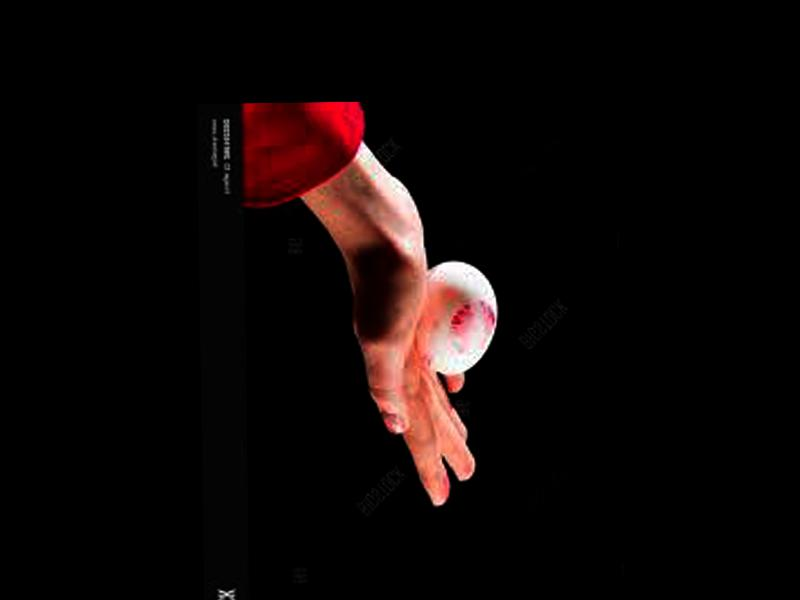Eggs: (421, 258, 499, 371)
